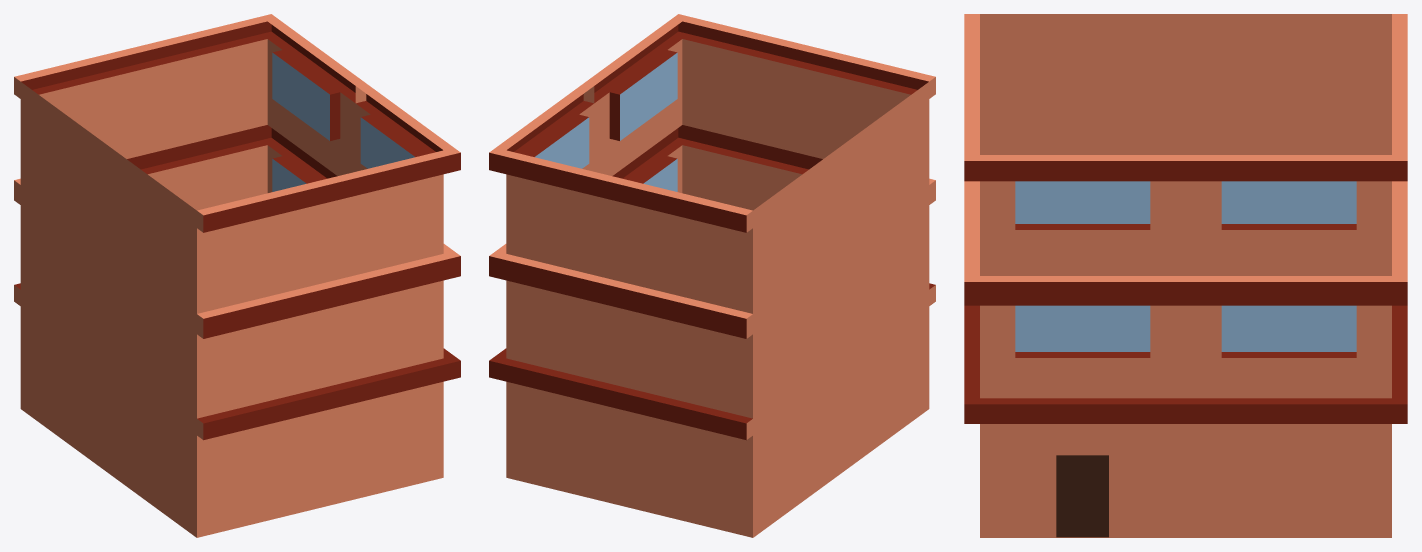
File: red short building 2.fbx
The picture shows the model from 3 angles, left to right: view 1: azimuth 30°, elevation 25°; view 2: azimuth 150°, elevation 25°; view 3: azimuth 270°, elevation 25°; orthographic projection. The views are drawn at different scales.
Visible parts, largest first — view 1: Cube; view 2: Cube; view 3: Cube.
Boxes of the visible parts, bbox=[...] form: Cube: bbox=[14, 14, 460, 537]; Cube: bbox=[489, 14, 935, 537]; Cube: bbox=[964, 14, 1407, 537].
Bounding box in the file's own units: 209 × 254 × 266.
